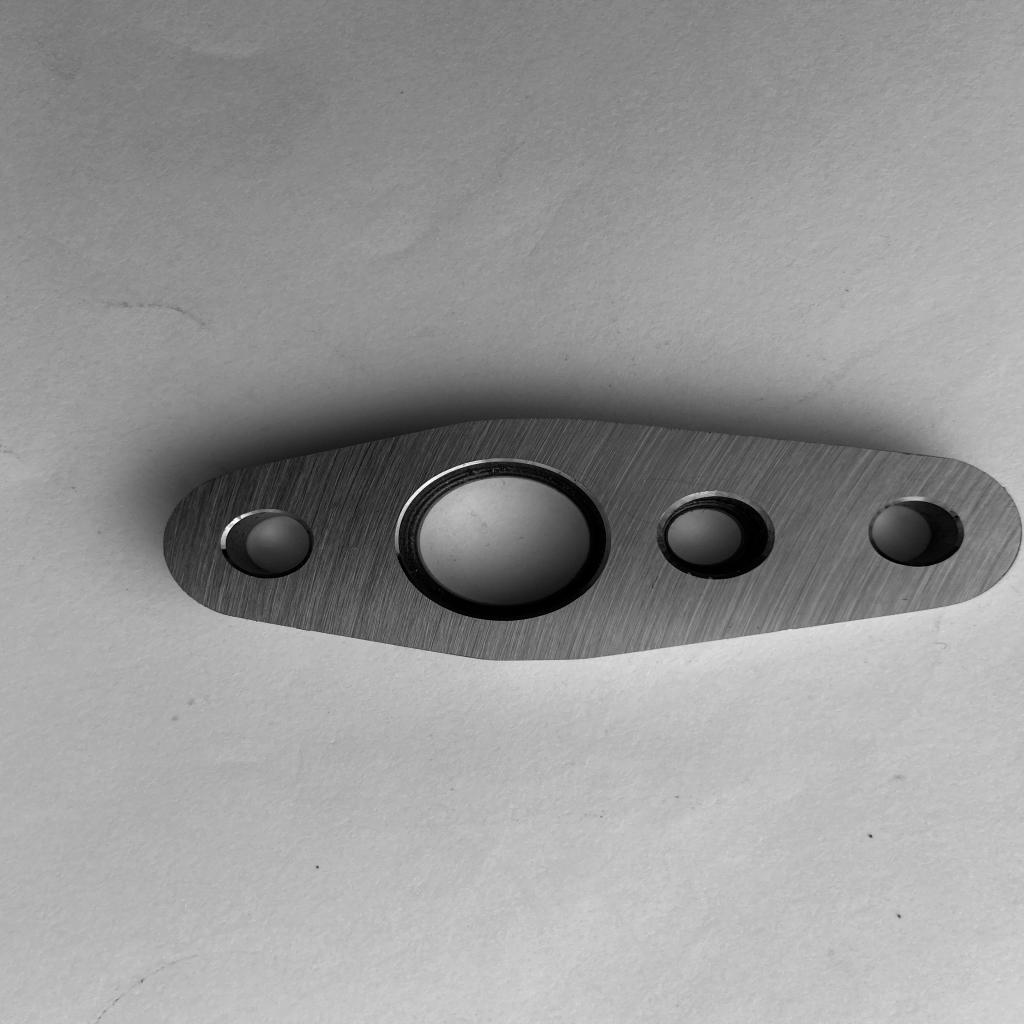chap: (896, 596, 912, 602)
lines: (650, 573, 663, 590)
